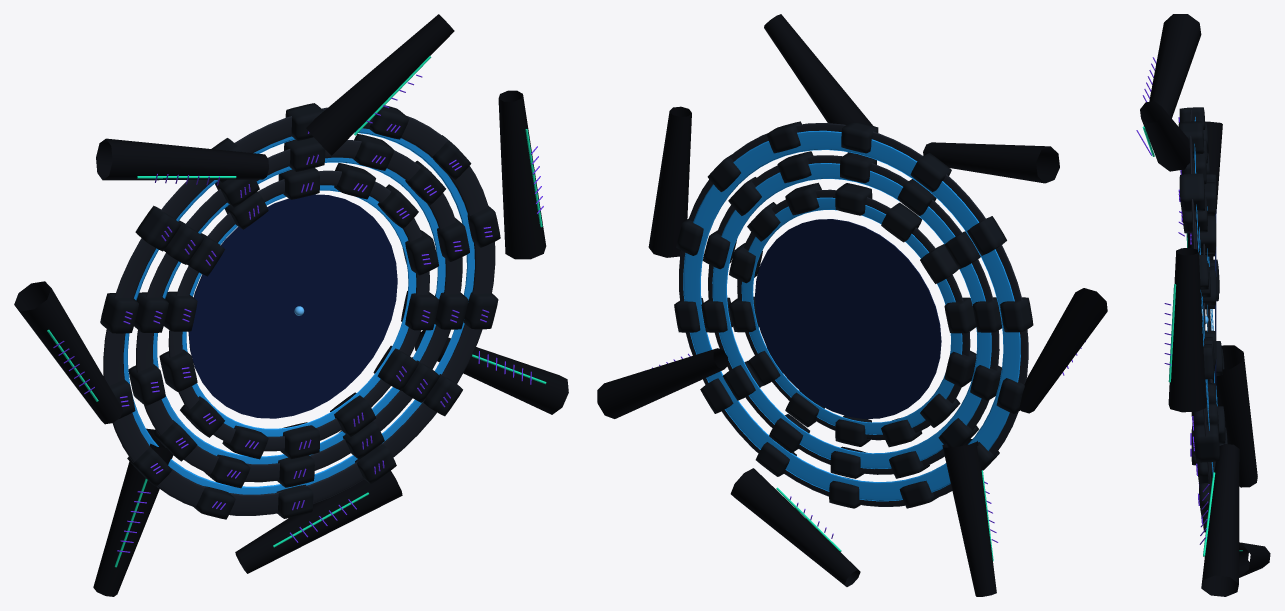
File: sleeping-archive.obj
3 views of the same model, side by side, from view 1: azimuth 30°, elevation 25°; view 2: azimuth 150°, elevation 25°; view 3: azimuth 270°, elevation 25° (orthographic). The views are drawn at different scales.
Visible parts, largest first — view 1: cylinder_part_231, machined-collar_part_47, machined-collar_part_45, alien-shard_part_234, alien-shard_part_233, alien-shard_part_232, alien-shard_part_235, alien-shard_part_237, machined-collar_part_48, machined-collar_part_43, alien-shard_part_236, machined-collar_part_46 (+42 smaller); view 2: cylinder_part_231, machined-collar_part_48, machined-collar_part_46, machined-collar_part_47, alien-shard_part_236, alien-shard_part_237, alien-shard_part_232, machined-collar_part_44, alien-shard_part_238, alien-shard_part_235, alien-shard_part_234, alien-shard_part_233 (+43 smaller); view 3: alien-shard_part_232, alien-shard_part_238, alien-shard_part_236, alien-shard_part_234, alien-shard_part_233, beveled-plate_part_42, beveled-plate_part_39, alien-shard_part_235, alien-shard_part_237, beveled-plate_part_14, beveled-plate_part_29, machined-collar_part_47 (+16 smaller).
Part boxes in pixels (x1,y1,x2,y2): cylinder_part_231: (188,194,397,418); machined-collar_part_47: (103,107,495,515); machined-collar_part_45: (136,140,462,482); alien-shard_part_234: (96,138,268,180); alien-shard_part_233: (306,14,454,155); alien-shard_part_232: (498,90,546,259); alien-shard_part_235: (14,281,123,424); alien-shard_part_237: (235,471,402,573); machined-collar_part_48: (123,128,474,494); machined-collar_part_43: (168,170,429,451); alien-shard_part_236: (93,428,173,596); machined-collar_part_46: (153,157,445,464); cylinder_part_231: (755,219,941,418); machined-collar_part_48: (683,130,1020,501); machined-collar_part_46: (712,163,991,468); machined-collar_part_47: (679,123,1028,506); alien-shard_part_236: (942,439,996,596); alien-shard_part_237: (730,468,860,586); alien-shard_part_232: (648,106,691,257); machined-collar_part_44: (741,197,962,434); alien-shard_part_238: (597,348,728,418); alien-shard_part_235: (1019,288,1107,413); alien-shard_part_234: (923,142,1059,183); alien-shard_part_233: (764,14,872,152); alien-shard_part_232: (1168,248,1206,412); alien-shard_part_238: (1201,444,1239,596); alien-shard_part_236: (1212,345,1257,487); alien-shard_part_234: (1149,14,1201,118); alien-shard_part_233: (1140,101,1193,171); beveled-plate_part_42: (1179,173,1205,212); beveled-plate_part_39: (1194,423,1219,462); alien-shard_part_235: (1187,121,1222,259); alien-shard_part_237: (1239,542,1270,577); beveled-plate_part_14: (1191,216,1216,253); beveled-plate_part_29: (1178,121,1203,154); machined-collar_part_47: (1189,109,1213,496).
Size of the model in its own units: 17.04 by 16.57 by 3.8.
